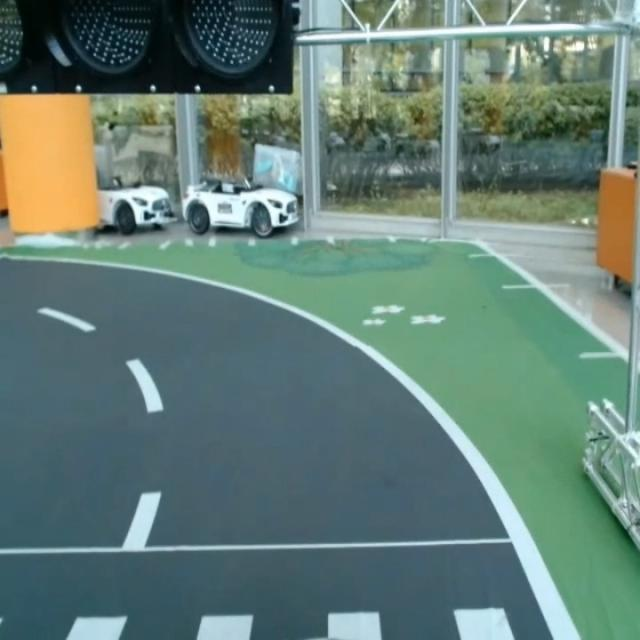traffic-light: (0, 0, 302, 101)
